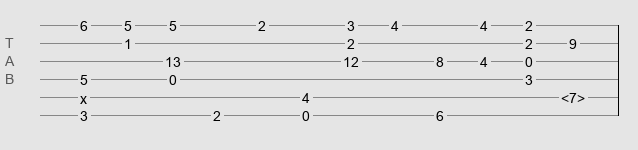0: (169, 72, 177, 82), (302, 108, 310, 118), (525, 54, 533, 64)
1: (124, 36, 132, 46)
12: (343, 54, 359, 64)
13: (165, 54, 181, 64)
2: (213, 108, 221, 118), (258, 18, 266, 28), (347, 36, 355, 46), (525, 36, 533, 46), (525, 18, 533, 28)
3: (80, 108, 88, 118), (347, 18, 355, 28), (525, 72, 533, 82)
4: (302, 90, 310, 100), (391, 18, 399, 28), (480, 18, 488, 28), (480, 54, 488, 64)
5: (80, 72, 88, 82), (124, 18, 132, 28), (169, 18, 177, 28)
6: (80, 18, 88, 28), (436, 108, 444, 118)
8: (436, 54, 444, 64)
9: (569, 36, 577, 46)
harmonic: (561, 90, 585, 100)
x: (80, 91, 87, 99)
